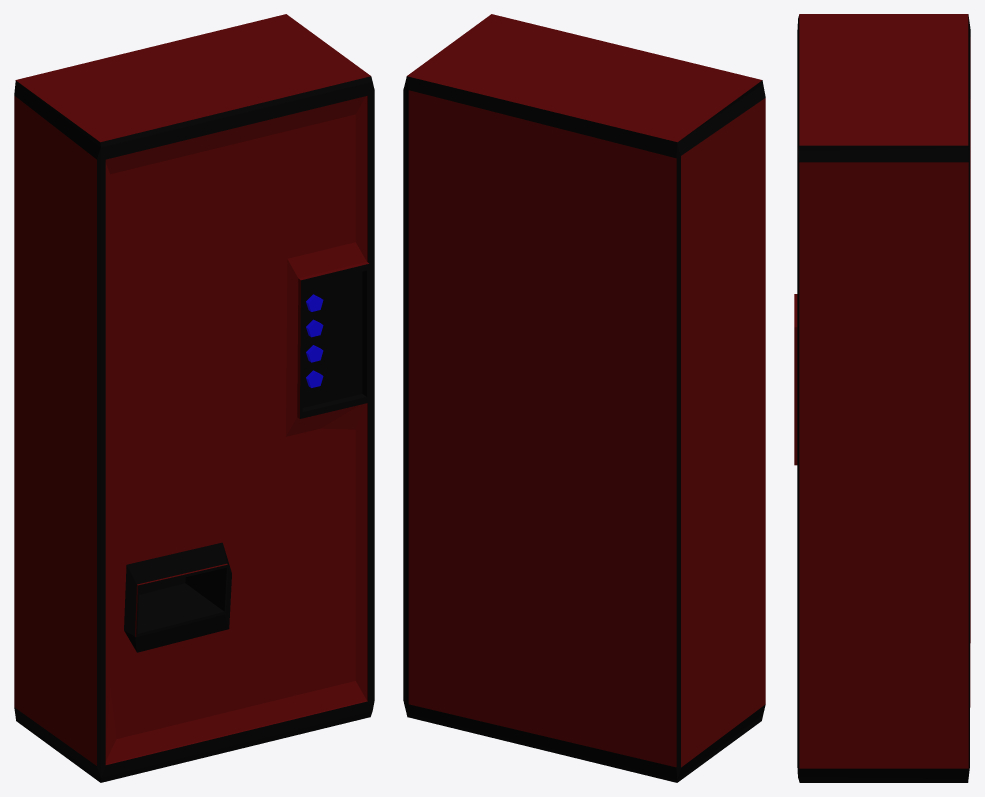
The model's file is Vending machine.fbx.
The picture shows the model from 3 angles, left to right: view 1: azimuth 30°, elevation 25°; view 2: azimuth 150°, elevation 25°; view 3: azimuth 270°, elevation 25°; orthographic projection.
Parts seen in each view (by area): view 1: Cube, Cylinder; view 2: Cube; view 3: Cube.
Boxes of the visible parts, box(x1,y1,x2,y2) form: Cube: box(14, 14, 374, 782); Cylinder: box(306, 294, 323, 387); Cube: box(403, 14, 765, 782); Cube: box(794, 14, 970, 782).
Size of the model in its own units: 131 by 290 by 72.52.
